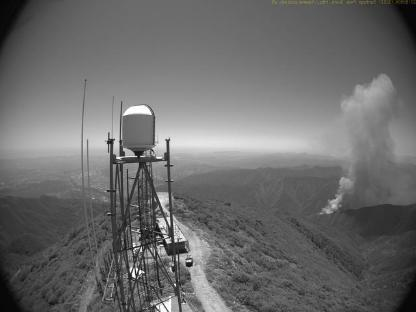smoke: (319, 74, 415, 216)
